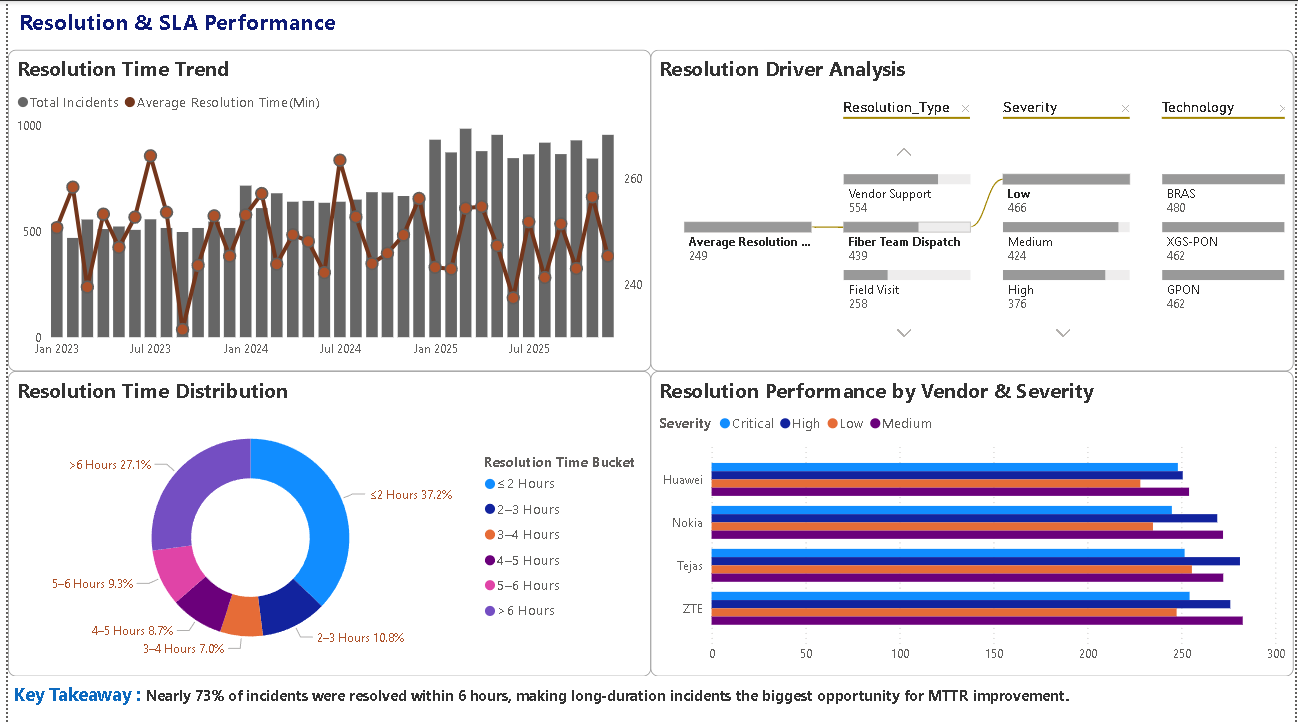

The page's visual inventory and layout, read from the dashboard file:
{"tool":"powerbi","page":{"name":"Resolution & SLA Performance","canvas":[1280,720],"ordinal":2},"visuals":[{"type":"lineClusteredColumnComboChart","title":"Resolution Time Trend","fields":{"Category":["Dim_Date.Year_Month_Label"],"Y":["Measure.Total Incidents"],"Y2":["Measure.Average Resolution Time"]},"box":[0,48,640,320],"z":0},{"type":"decompositionTreeVisual","title":"Resolution Driver Analysis","fields":{"Analyze":["Measure.Average Resolution Time"],"ExplainBy":["Fact_Incident.Resolution_Type","Fact_Incident.Severity","Dim_VendorTechnology.Technology","Dim_Fault.Fault_Category"]},"box":[640,48,640,320],"z":1000},{"type":"donutChart","title":"Resolution Time Distribution","fields":{"Category":["Fact_Incident.Resolution Time Bucket"],"Y":["Measure.Total Incidents"]},"box":[0,368,640,304],"z":2000},{"type":"clusteredBarChart","title":"Resolution Performance by Vendor & Severity","fields":{"Category":["Dim_VendorTechnology.Vendor"],"Y":["Measure.Average Resolution Time(Min)"],"Series":["Fact_Incident.Severity"]},"box":[640,368,640,304],"z":3000},{"type":"textbox","box":[0,0,752,48],"z":4000},{"type":"textbox","box":[0,672,1280,48],"z":5000}]}

Visuals, with their boxes in screenshot pixels (x1, y1, x2, y2), scaled from the page's 1280x720 canvas onto the 1298x724 screenshot:
"Resolution Time Trend" lineClusteredColumnComboChart: rect(0, 48, 649, 370)
"Resolution Driver Analysis" decompositionTreeVisual: rect(649, 48, 1297, 370)
"Resolution Time Distribution" donutChart: rect(0, 370, 649, 676)
"Resolution Performance by Vendor & Severity" clusteredBarChart: rect(649, 370, 1297, 676)
textbox: rect(0, 0, 763, 48)
textbox: rect(0, 676, 1297, 723)
